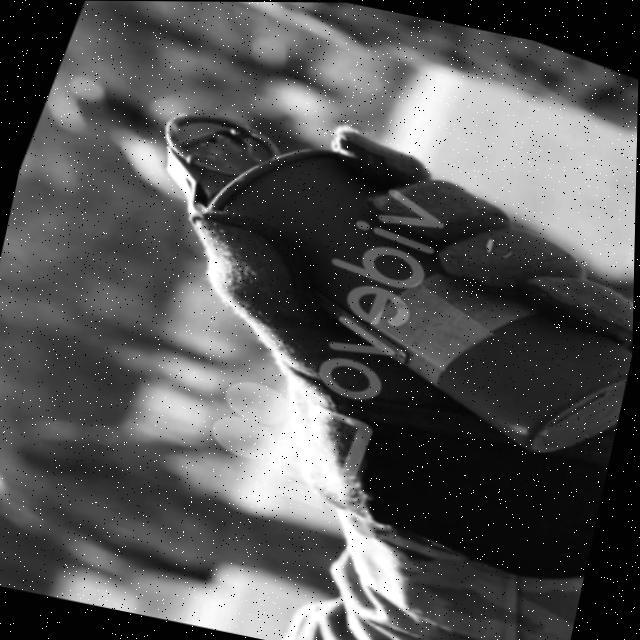grenade: (83, 70, 639, 475)
